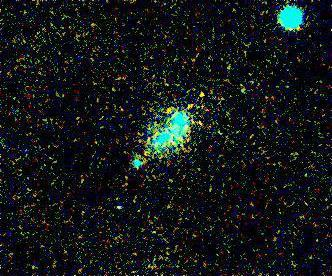star: (187, 81, 217, 111)
